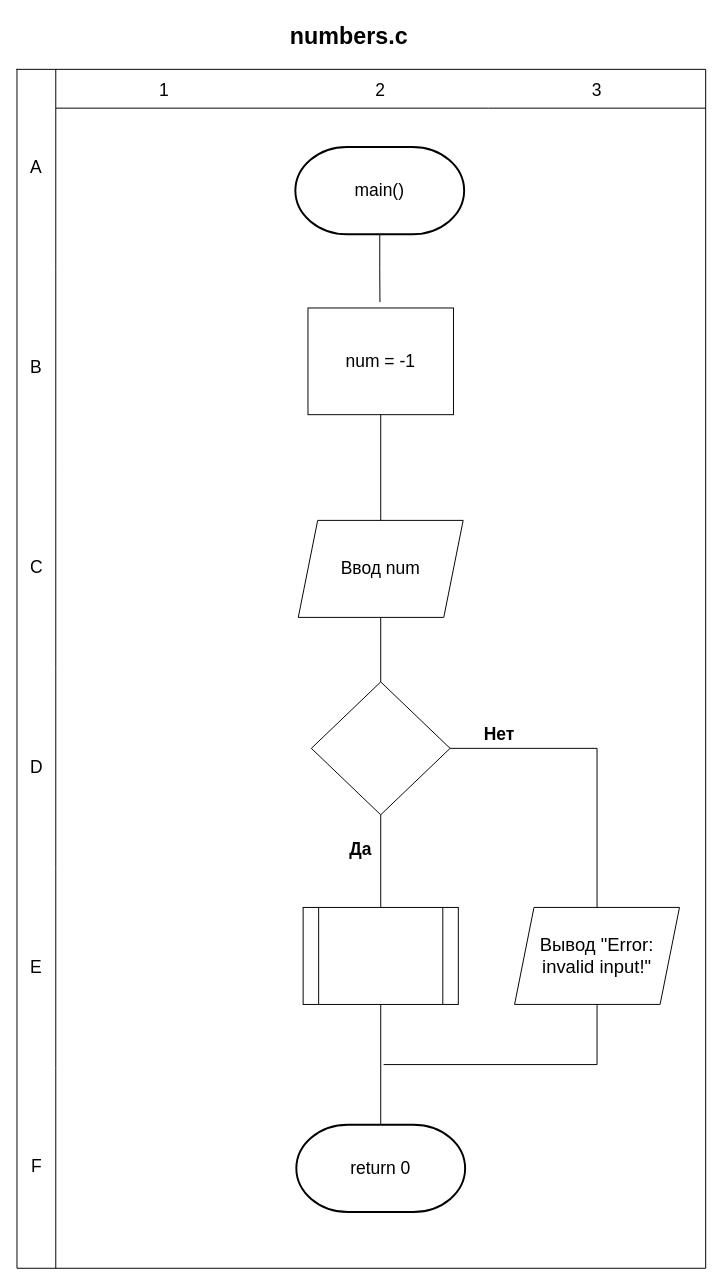
The diagram is 723 pixels wide and 1285 high, and some of its shapes have lost their labels. Each missing label, with the centre of its shape:
"f = find_s(num)" belongs at (380,955).
"корректен ли ввод" belongs at (380,748).
